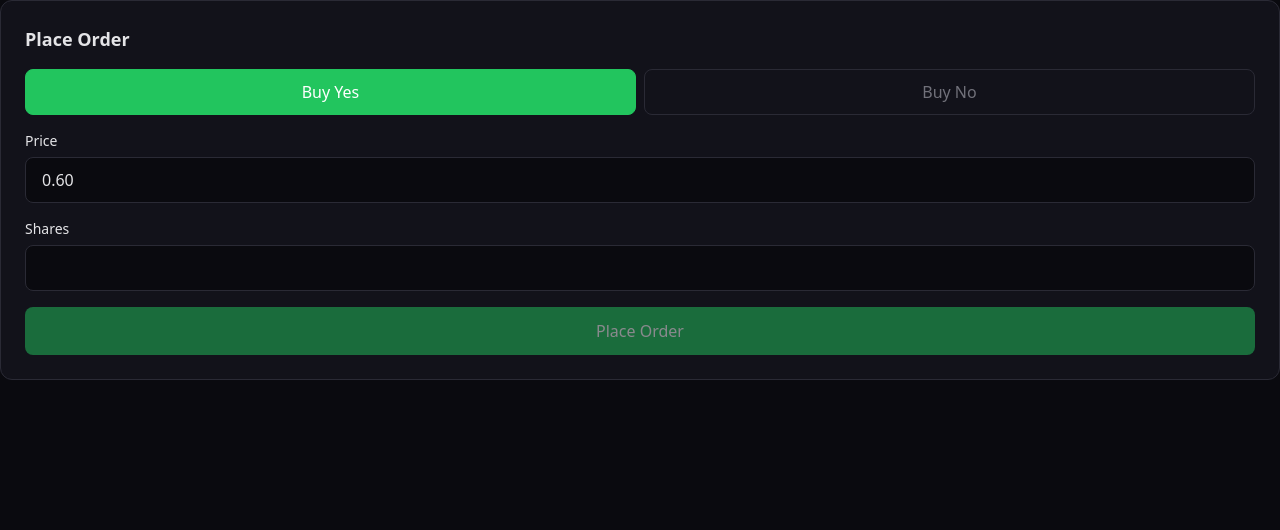
it: TradePanel › should show cost calculation when shares entered
Type "10" into the number field labelled "Shares" at coordinates (640, 268), box [25,245,1255,291]
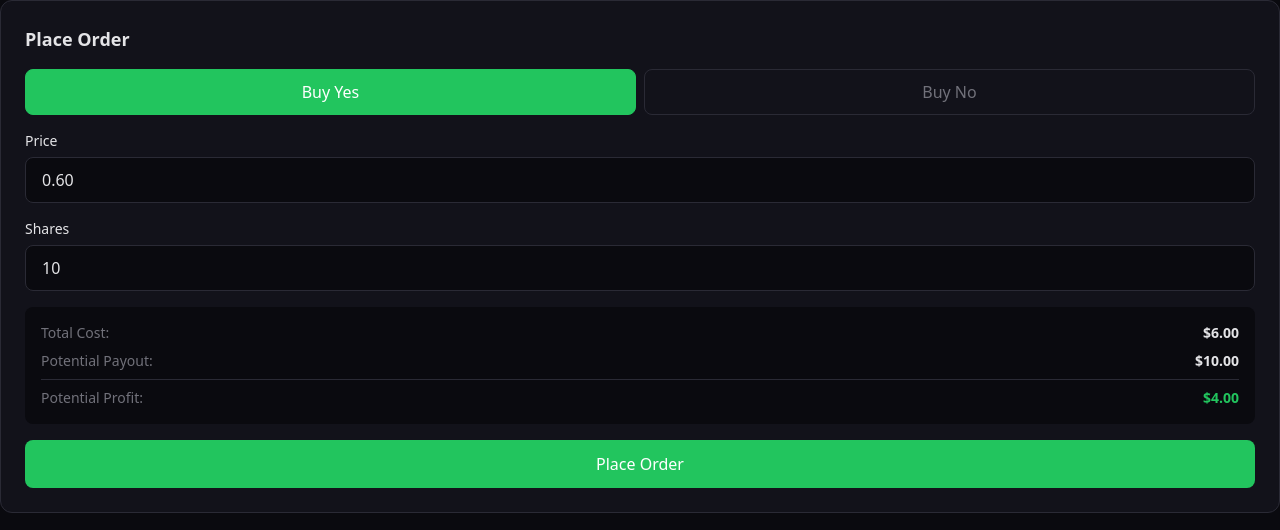
Result: the text "$6.00" is shown at [1203,323,1239,343]
